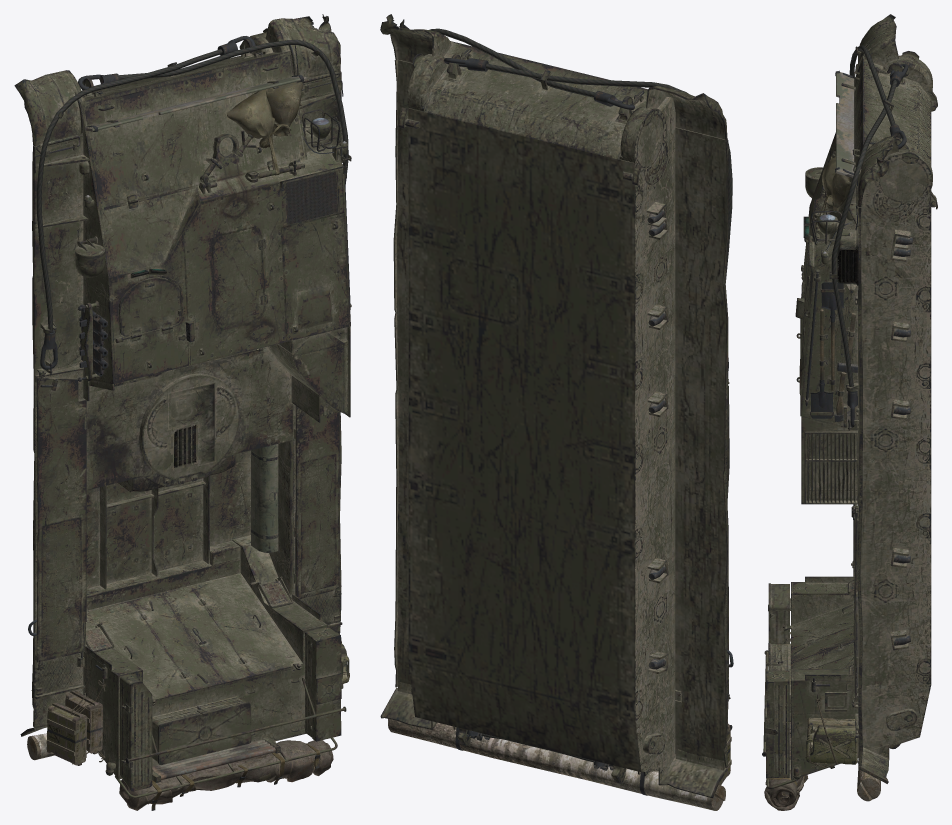
Rendered from Hull.glb.
3 renders of one model, left to right at view 1: azimuth 30°, elevation 25°; view 2: azimuth 150°, elevation 25°; view 3: azimuth 270°, elevation 25°, orthographic. The views are drawn at different scales.
Visible parts, largest first — view 1: set_0_group_0, set_0_group_1; view 2: set_0_group_0, set_0_group_1; view 3: set_0_group_0, set_0_group_1.
Boxes of the visible parts, box(x1,y1,x2,y2) form: set_0_group_0: box(14, 14, 351, 798); set_0_group_1: box(27, 39, 349, 810); set_0_group_0: box(380, 14, 733, 798); set_0_group_1: box(388, 28, 732, 810); set_0_group_0: box(762, 14, 937, 789); set_0_group_1: box(764, 45, 897, 810).
Bounding box in the file's own units: 3.19 × 6.88 × 1.6.
Materials: 2 (2 with a texture image).
